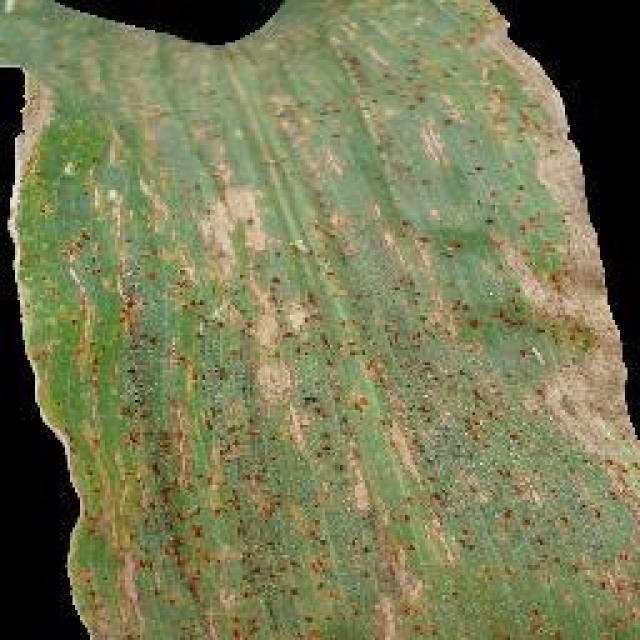Corn Common Rust: (110, 48, 505, 565)
